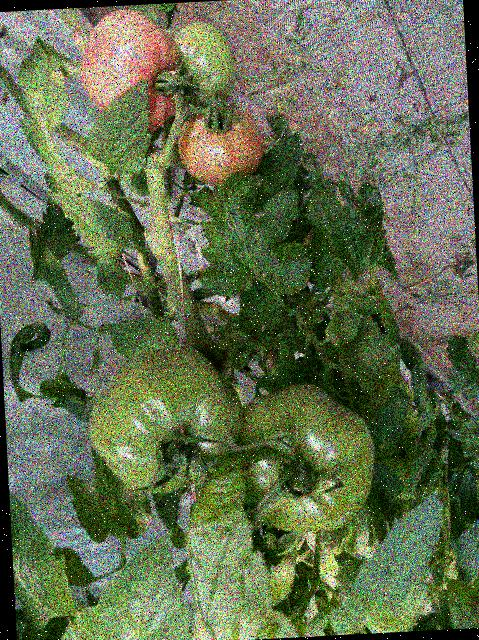b_green: (84, 343, 247, 498), (228, 379, 378, 536), (172, 21, 237, 111)
b_half_ripened: (78, 6, 184, 137), (176, 104, 266, 189)
